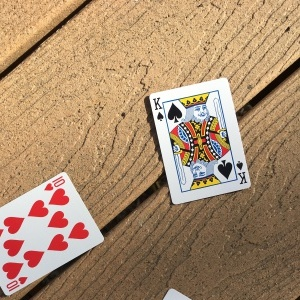card: (146, 77, 253, 205)
